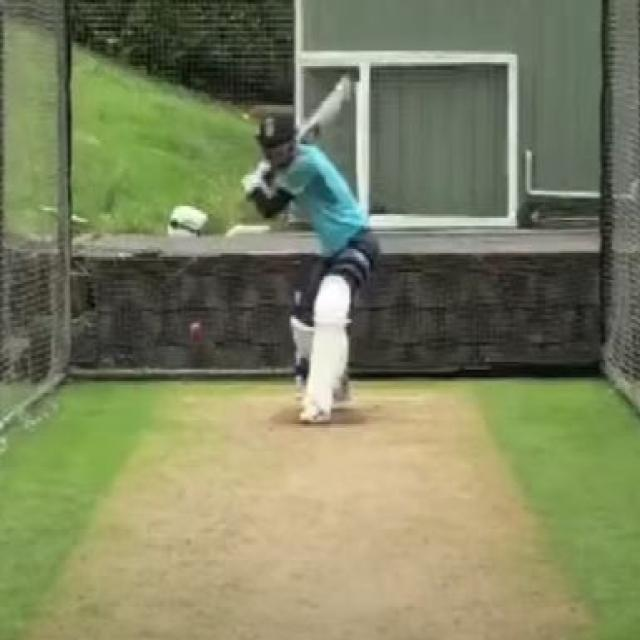ball: (180, 318, 209, 347)
